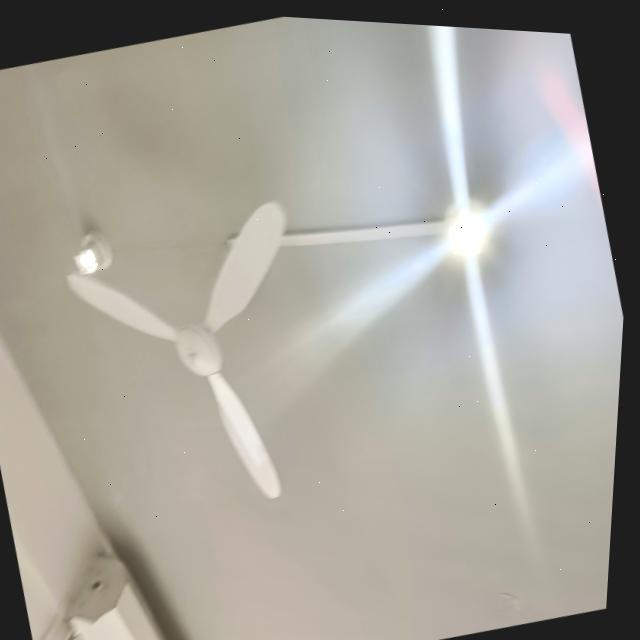fluorescent tube: (401, 149, 535, 331), (44, 172, 141, 328)
